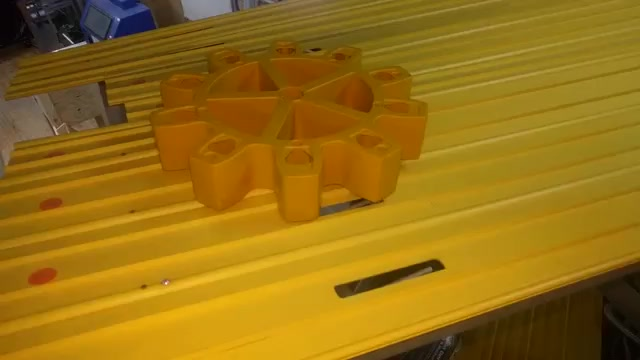gear: (140, 39, 438, 214)
